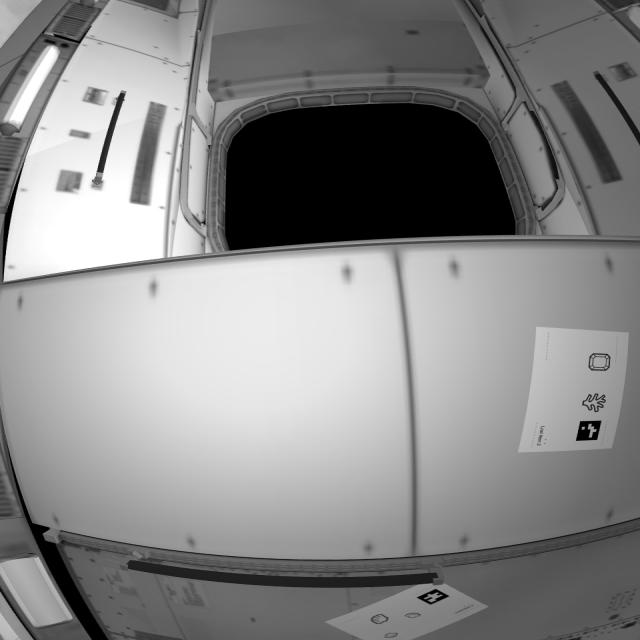coral: (582, 393, 610, 415)
emerald: (589, 352, 613, 374)
shell: (369, 612, 396, 629), (400, 613, 432, 620), (383, 632, 403, 640)
